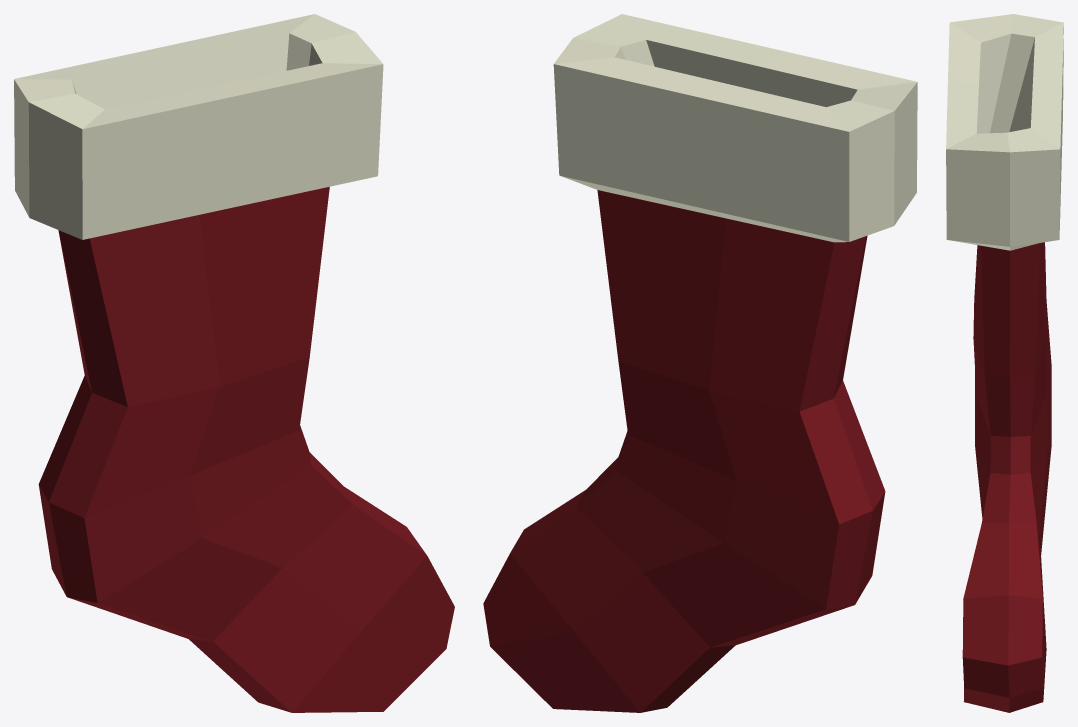
Rendered from Stocking_simple_red.fbx.
The picture shows the model from 3 angles, left to right: view 1: azimuth 30°, elevation 25°; view 2: azimuth 150°, elevation 25°; view 3: azimuth 270°, elevation 25°; orthographic projection. The views are drawn at different scales.
Visible parts, largest first — view 1: Stocking_simple_red; view 2: Stocking_simple_red; view 3: Stocking_simple_red.
Part boxes in pixels (x1,y1,x2,y2): Stocking_simple_red: (14,14,454,712); Stocking_simple_red: (483,14,917,712); Stocking_simple_red: (946,14,1063,712).
Bounding box in the file's own units: 0.1517 × 0.2411 × 0.0457.
